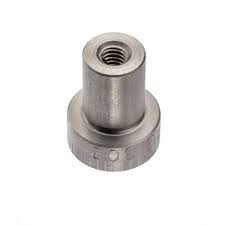Thread: (88, 35, 137, 74)
